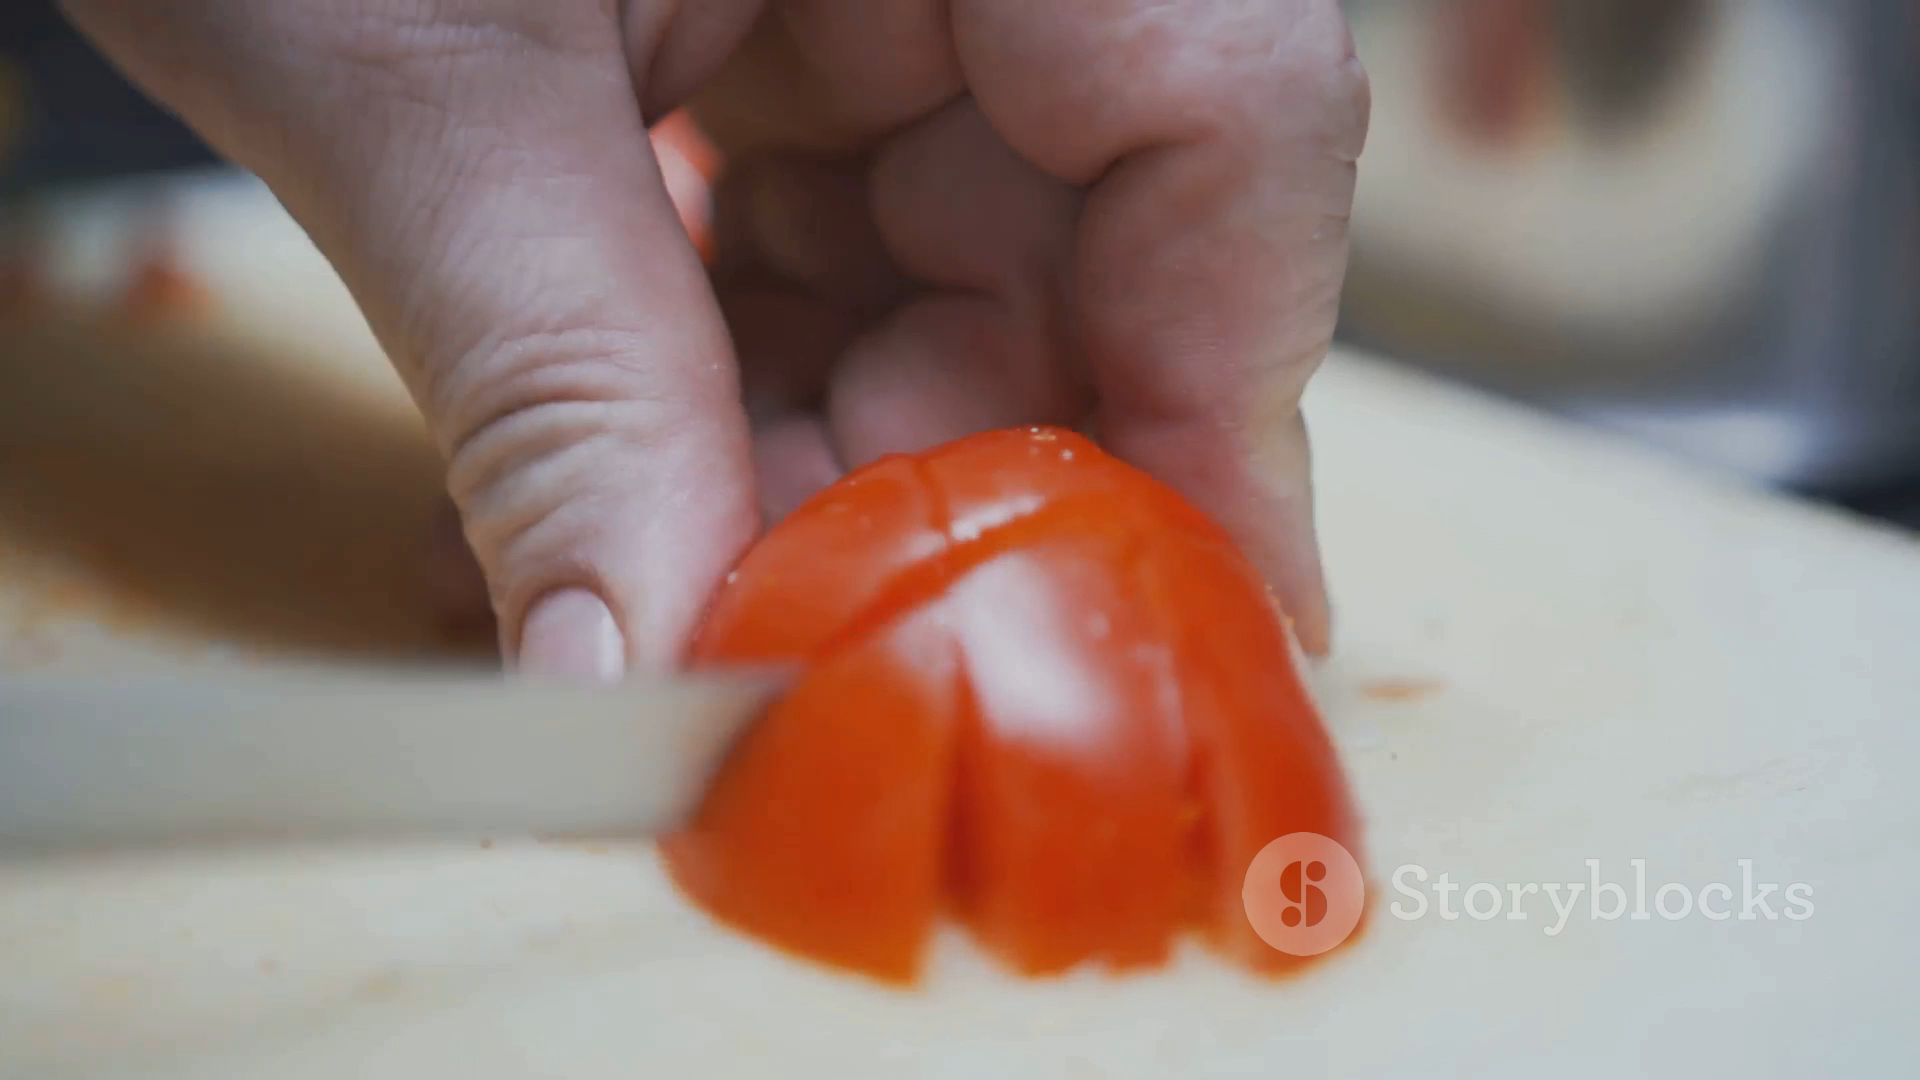cortante: (0, 667, 798, 841)
